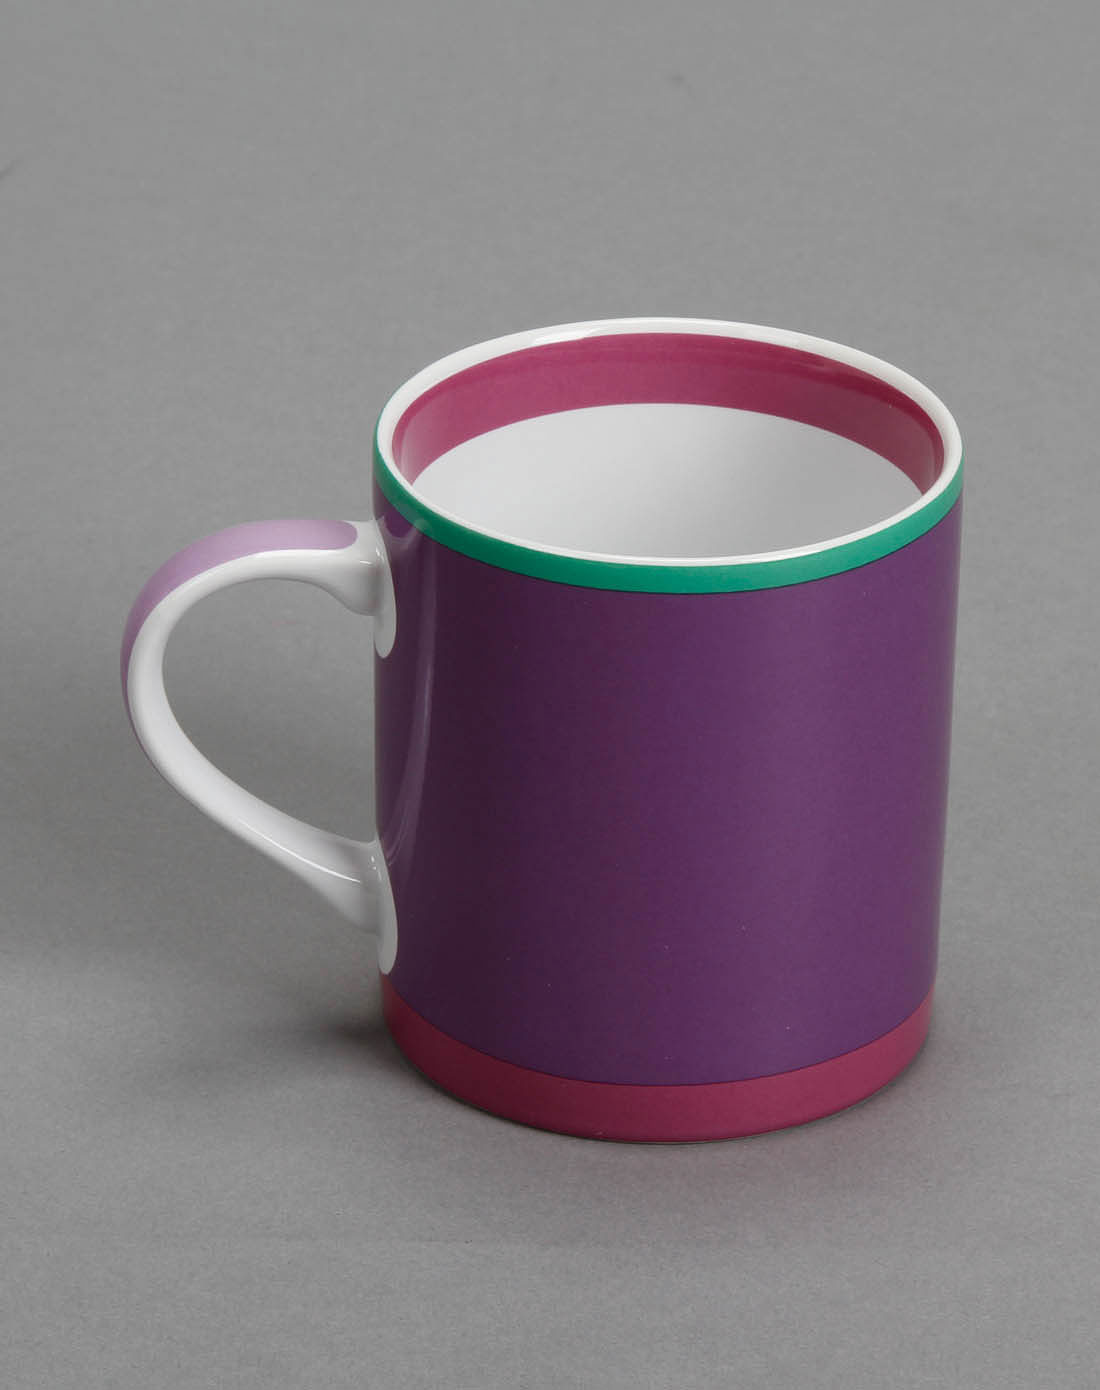cup: (121, 313, 968, 1150)
